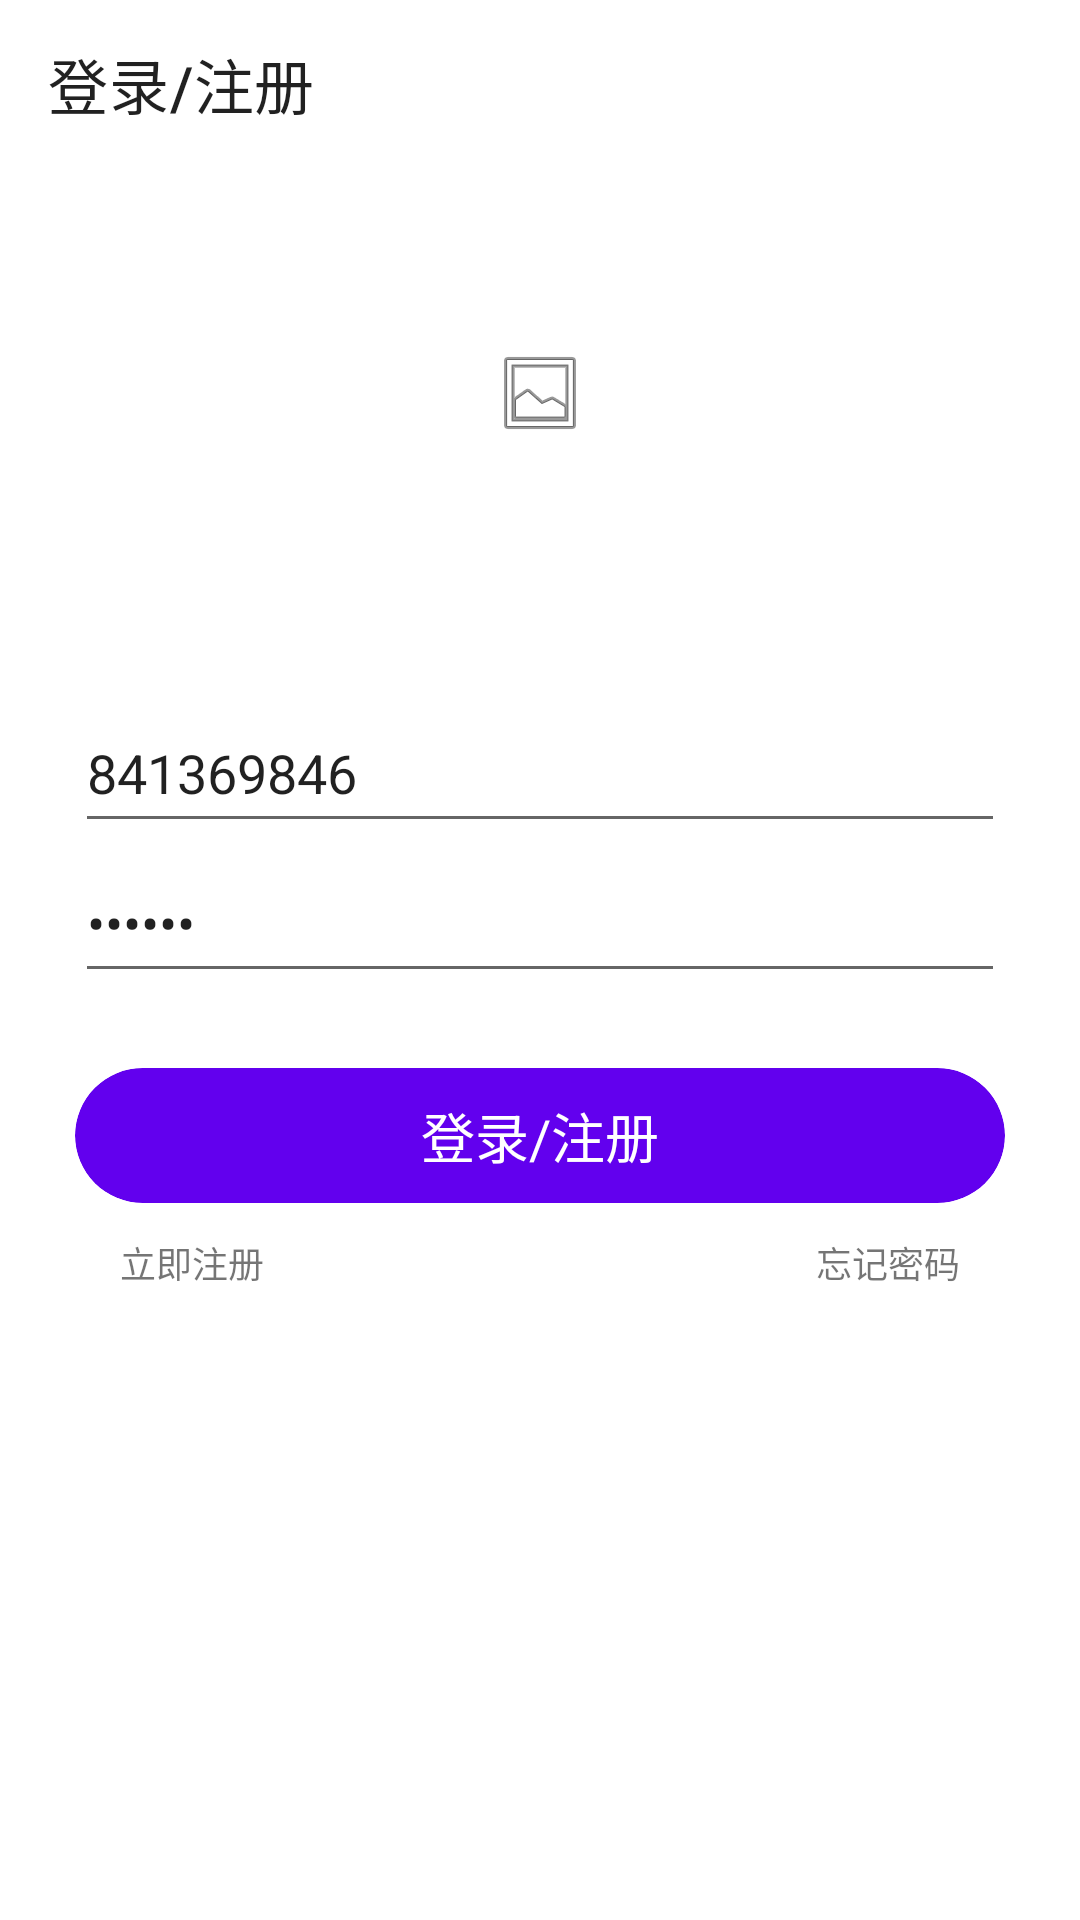

Locate icon controls on the screen. Image size 1080*1920, boxes as [x1=x1, y1=y1, x2=x2, y2=y2].
gallery: [x1=504, y1=357, x2=576, y2=429]
